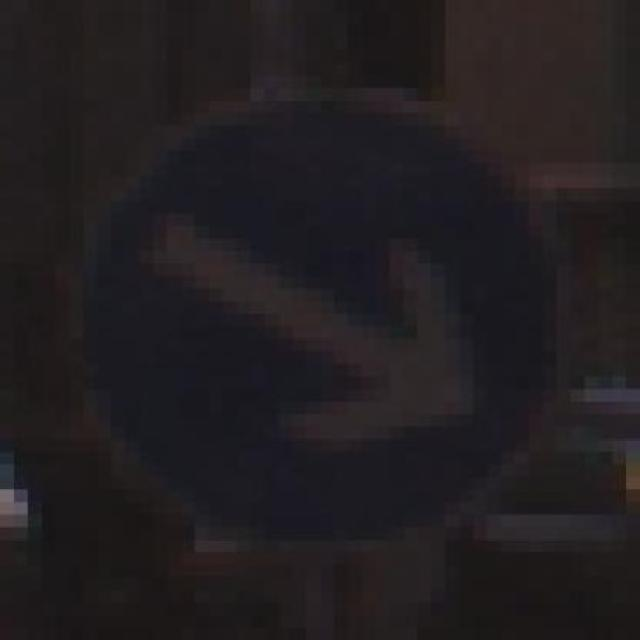Keep-Right: (55, 75, 557, 540)
